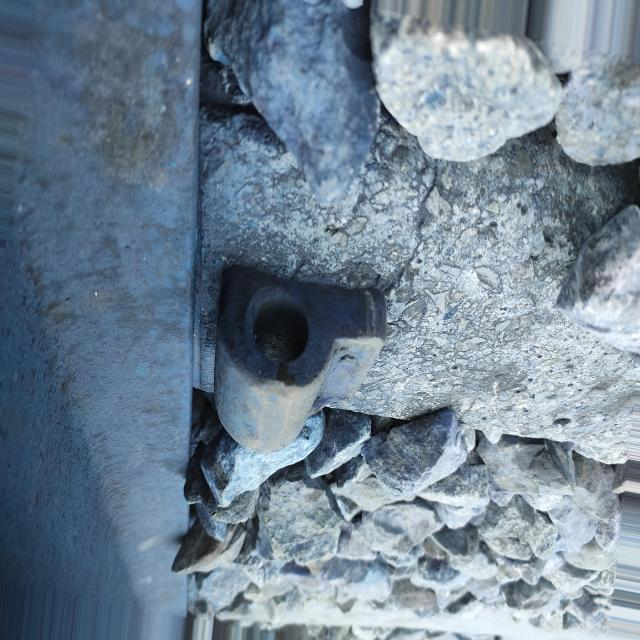Missing Fastener: (210, 248, 419, 454)
